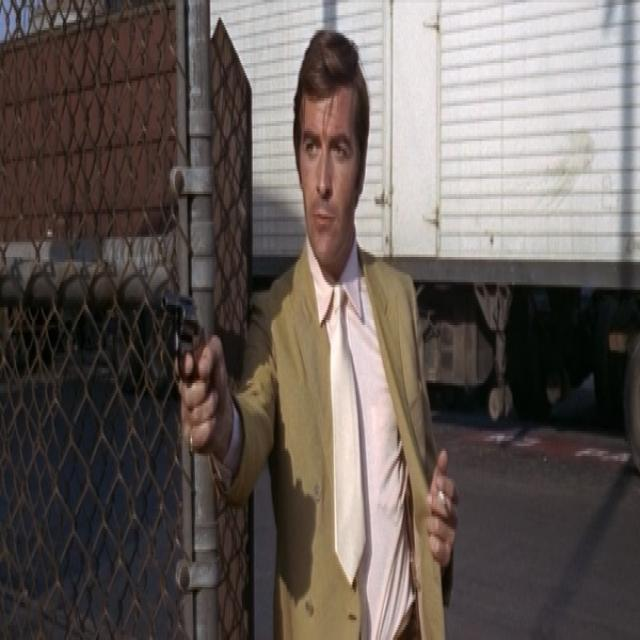weapons: (141, 258, 226, 477)
